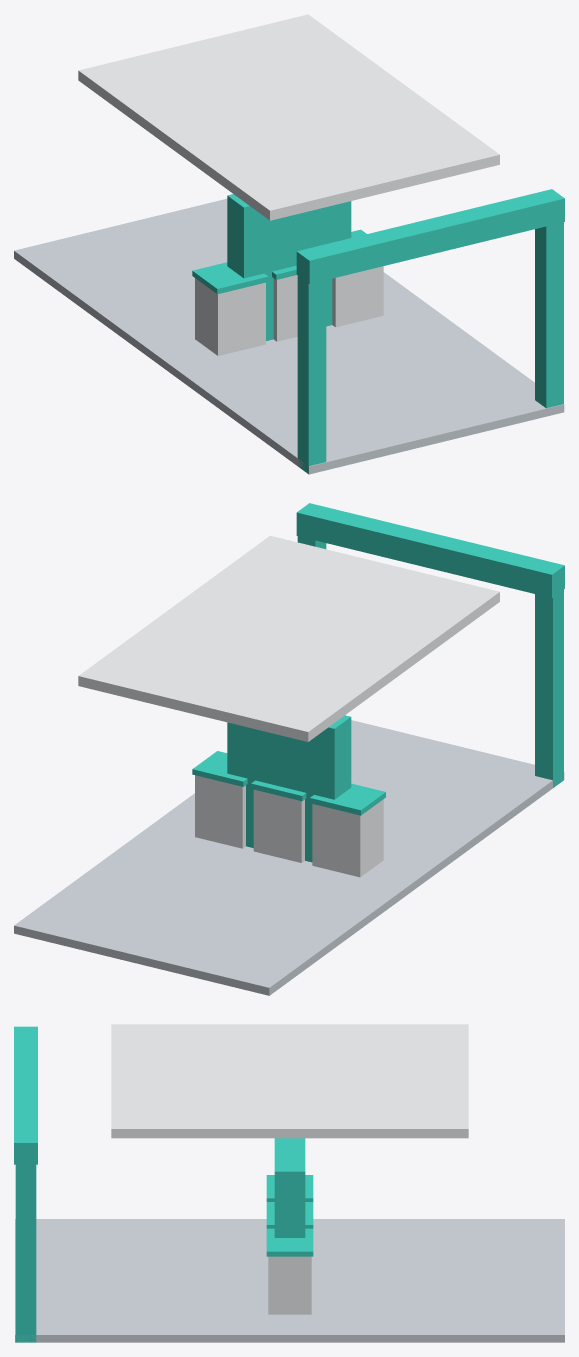
3 views of the same model, one above another, from view 1: azimuth 30°, elevation 25°; view 2: azimuth 150°, elevation 25°; view 3: azimuth 270°, elevation 25° (orthographic). The views are drawn at different scales.
Visible parts, largest first — view 1: Exhibition Booth Concept; view 2: Exhibition Booth Concept; view 3: Exhibition Booth Concept.
Boxes of the visible parts, x1,y1,x2,y2 form: Exhibition Booth Concept: (14,14,564,474); Exhibition Booth Concept: (14,503,564,995); Exhibition Booth Concept: (14,1024,564,1342).
Size of the model in its own units: 4 by 3.34 by 8.01.
